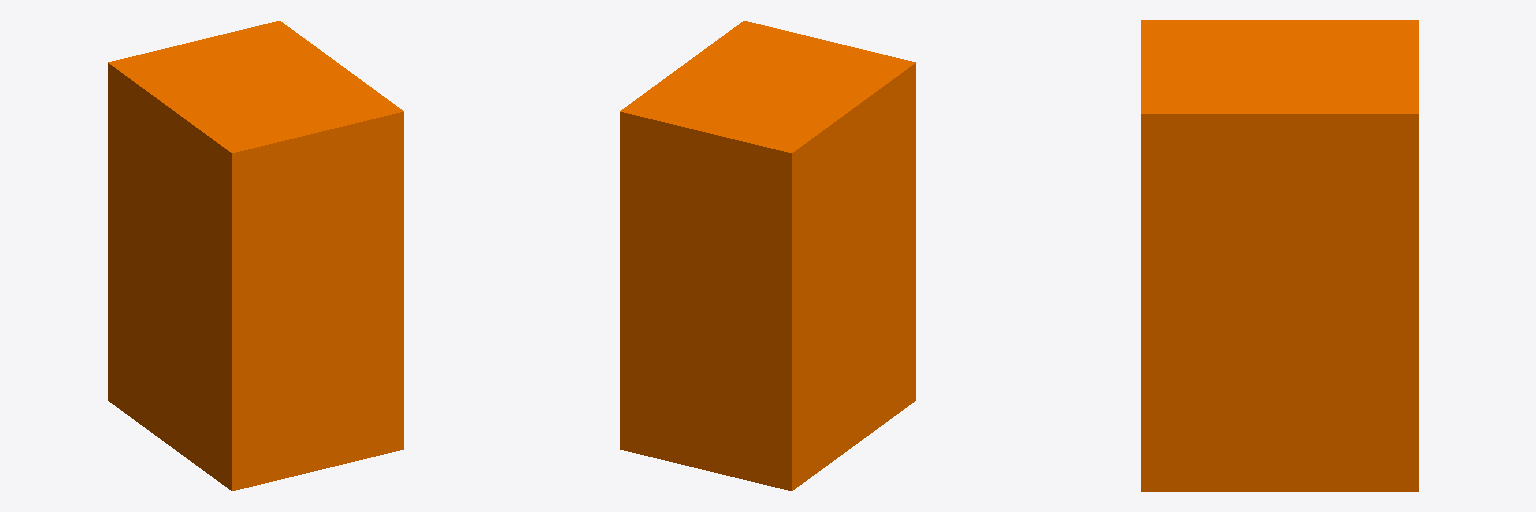
URDF robot description (robotool_object):
<?xml version="1.0"?>
<robot name="robotool_object">
  <material name="obj_color">
      <color rgba="1.0 0.5 0.0 1.0"/>
  </material>
  <link name="base">
    <visual>
      <origin xyz="0.0 0.0 0.0"/>
      <geometry>
        <mesh filename="cleaned_mesh_10000.obj" scale="1 1 1"/>
      </geometry>
      <material name="obj_color"/>
    </visual>
    <collision>
      <origin xyz="0.0 0.0 0.0"/>
      <geometry>
        <mesh filename="cleaned_mesh_10000.obj" scale="1 1 1"/>
      </geometry>
    </collision>
    <inertial>
      <mass value="0.1"/>
      <inertia ixx="0.001" ixy="0.0" ixz="0.0" iyy="0.001" iyz="0.0" izz="0.001"/>
    </inertial>
  </link>
</robot>

--- Facts derived from the render (not from the file) ---
The picture shows the robot from 3 angles, left to right: view 1: azimuth 30°, elevation 25°; view 2: azimuth 150°, elevation 25°; view 3: azimuth 270°, elevation 25°; orthographic projection.
Model robotool_object with 1 links and 0 joints (none), rooted at base, posed all joints at 0.
Links seen in each view (by area): view 1: base; view 2: base; view 3: base.
Link boxes in pixels (x1,y1,x2,y2): base: (108, 21, 403, 490); base: (620, 21, 915, 490); base: (1141, 20, 1418, 491).
Bounding box of the posed robot: 0.032 × 0.04 × 0.06 m (x, y, z).
Meshes: 1 distinct files referenced, 1 mesh visuals loaded (1 OBJ).
